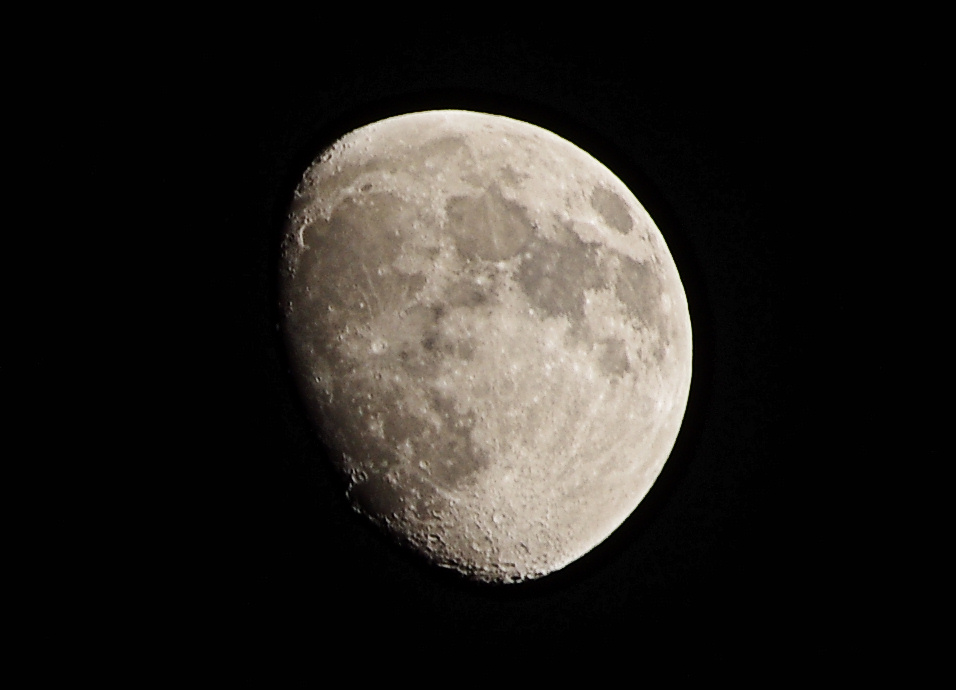crater: (363, 329, 394, 360), (482, 504, 513, 534), (347, 464, 373, 490), (353, 176, 384, 196), (372, 363, 392, 388), (359, 387, 377, 402), (313, 371, 327, 386)
